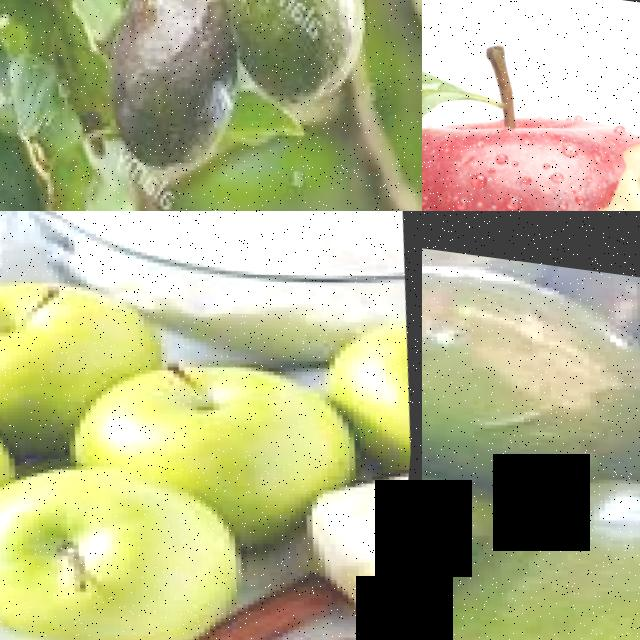apple: (0, 426, 268, 640), (67, 314, 376, 493), (422, 32, 640, 211), (0, 222, 184, 411), (320, 292, 419, 395)
avocado: (422, 231, 640, 490), (422, 428, 640, 640), (88, 0, 262, 202), (206, 0, 400, 128)
